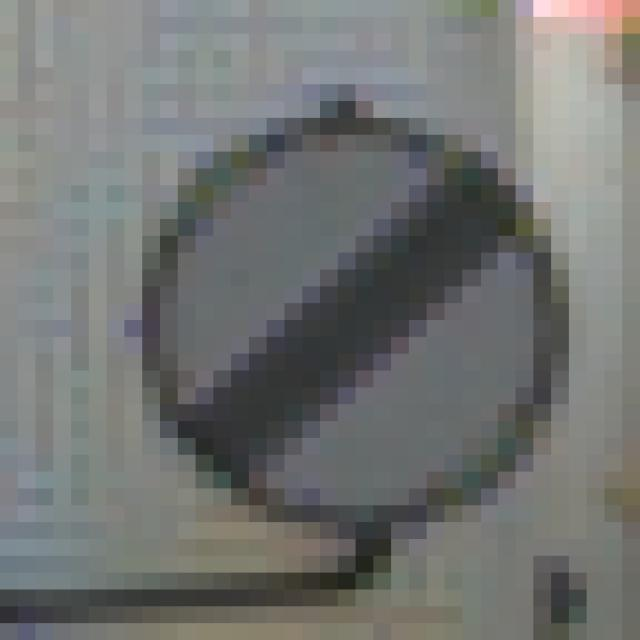restriction ends: (135, 105, 582, 537)
